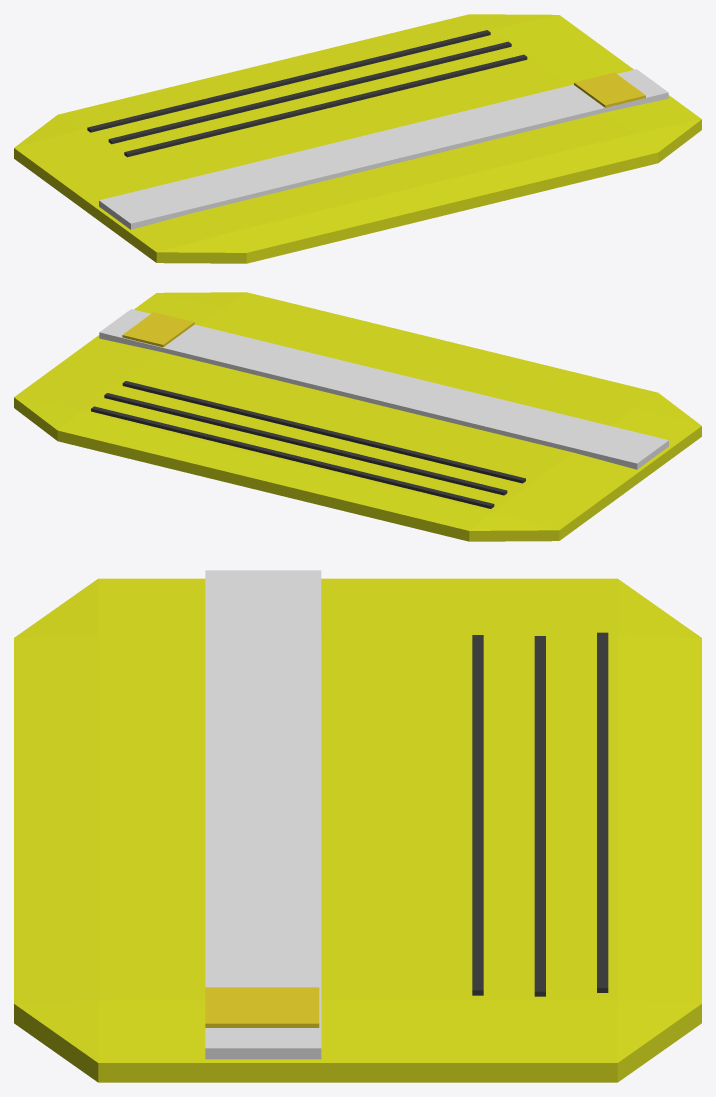
The model's file is YellowKeycard.fbx.
The picture shows the model from 3 angles, top to bottom: view 1: azimuth 30°, elevation 25°; view 2: azimuth 150°, elevation 25°; view 3: azimuth 270°, elevation 25°; orthographic projection. The views are drawn at different scales.
Visible parts, largest first — view 1: Yellow Keycard, WhiteStripe, Cube.001, Cube.002, Cube.003, Chip; view 2: Yellow Keycard, WhiteStripe, Cube.002, Cube.001, Cube.003, Chip; view 3: Yellow Keycard, WhiteStripe, Chip, Cube.001, Cube.003, Cube.002.
Part boxes in pixels (x1,y1,x2,y2): Yellow Keycard: (14, 14, 701, 263); WhiteStripe: (99, 69, 668, 229); Cube.001: (108, 41, 511, 144); Cube.002: (87, 30, 490, 132); Cube.003: (124, 54, 527, 157); Chip: (574, 72, 645, 107); Yellow Keycard: (14, 292, 701, 541); WhiteStripe: (99, 309, 668, 469); Cube.002: (91, 406, 494, 508); Cube.001: (104, 393, 507, 495); Cube.003: (122, 381, 525, 483); Chip: (122, 312, 194, 347); Yellow Keycard: (14, 578, 701, 1082); WhiteStripe: (205, 570, 321, 1059); Chip: (205, 987, 319, 1027); Cube.001: (534, 636, 545, 996); Cube.003: (472, 635, 483, 995); Cube.002: (597, 632, 608, 992).
Size of the model in its own units: 400 by 14.94 by 240.
